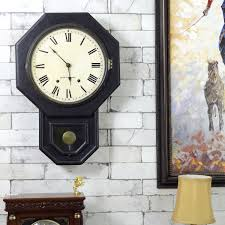clock: (31, 28, 105, 104)
